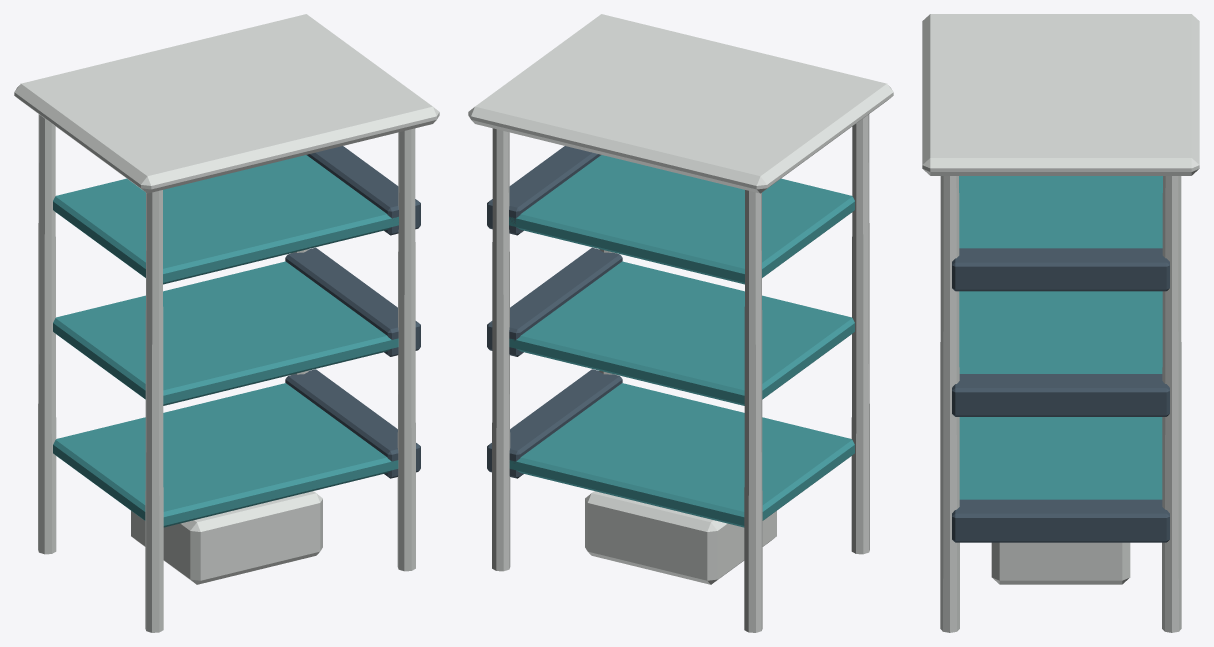
3 views of the same model, side by side, from view 1: azimuth 30°, elevation 25°; view 2: azimuth 150°, elevation 25°; view 3: azimuth 270°, elevation 25° (orthographic). The views are drawn at different scales.
Visible parts, largest first — view 1: ME-044 Layered cosmic-particle detector batched; view 2: ME-044 Layered cosmic-particle detector batched; view 3: ME-044 Layered cosmic-particle detector batched.
Part boxes in pixels (x1,y1,x2,y2): ME-044 Layered cosmic-particle detector batched: (14, 14, 439, 632); ME-044 Layered cosmic-particle detector batched: (468, 14, 893, 632); ME-044 Layered cosmic-particle detector batched: (922, 14, 1199, 632).
Size of the model in its own units: 0.9 by 1.33 by 0.7.
